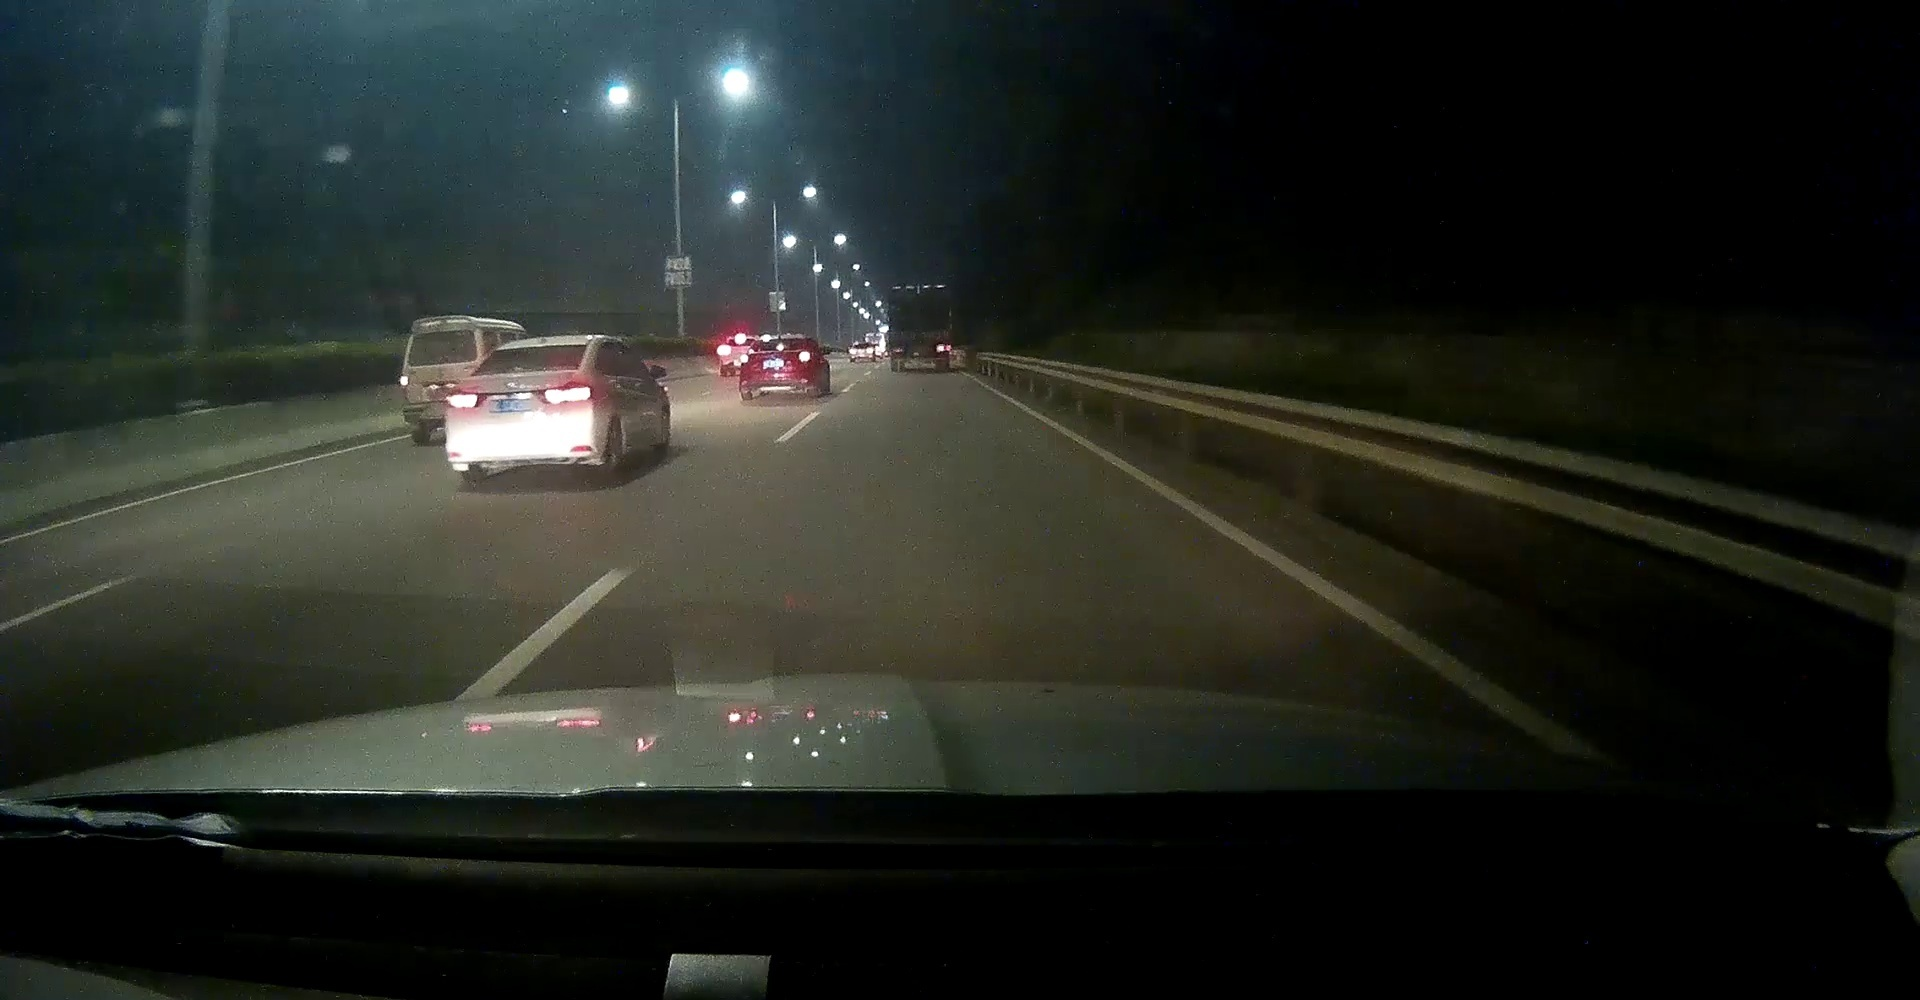L_light: (447, 390, 488, 409), (891, 346, 904, 353), (740, 355, 749, 363)
R_light: (533, 383, 590, 405), (797, 353, 811, 360), (936, 346, 951, 352)
T_light: (521, 346, 541, 352), (916, 288, 927, 292), (778, 339, 789, 341)
night-no: (446, 336, 596, 484), (888, 284, 952, 373), (740, 335, 811, 401)
